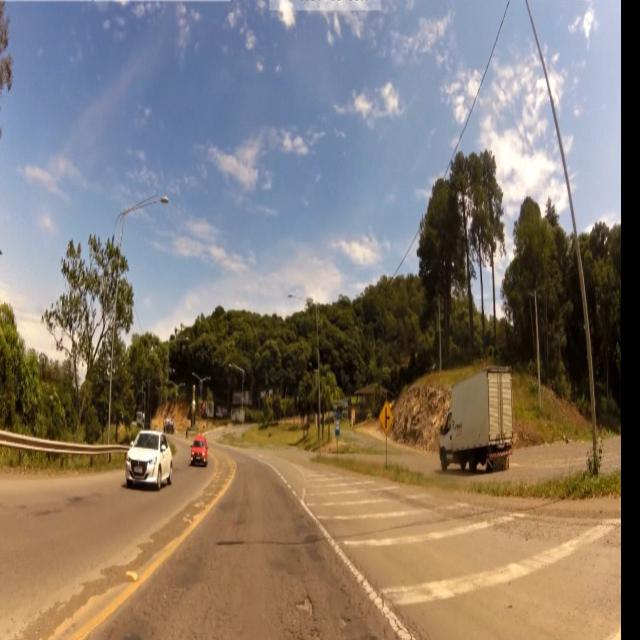A-7b: (379, 399, 394, 435)
